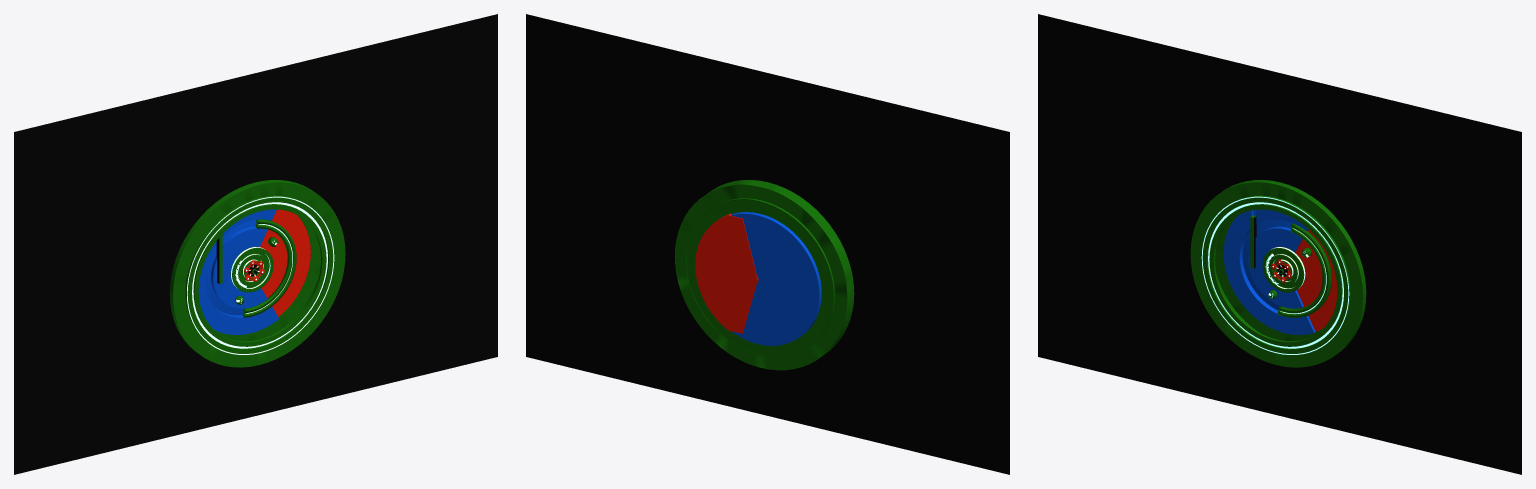
The model's file is Door1BakedReady.glb.
3 renders of one model, left to right at view 1: azimuth 30°, elevation 25°; view 2: azimuth 150°, elevation 25°; view 3: azimuth 330°, elevation 25°, orthographic.
Parts seen in each view (by area): view 1: Plane, Contour, RightSide, LeftSide, RoletteContour, Rolette; view 2: Plane, Contour, RightSide, LeftSide; view 3: Plane, Contour, RightSide, LeftSide, RoletteContour, Rolette.
Part boxes in pixels (box(x1,y1,x2,y2)): Plane: box(14, 14, 497, 474); Contour: box(169, 180, 345, 367); RightSide: box(198, 209, 279, 334); LeftSide: box(260, 209, 310, 316); RoletteContour: box(242, 219, 296, 317); Rolette: box(230, 246, 273, 292); Plane: box(526, 14, 1009, 474); Contour: box(674, 180, 854, 370); RightSide: box(731, 212, 821, 345); LeftSide: box(695, 213, 758, 333); Plane: box(1038, 14, 1521, 474); Contour: box(1190, 180, 1366, 367); RightSide: box(1223, 209, 1315, 334); LeftSide: box(1295, 229, 1337, 331); RoletteContour: box(1277, 223, 1331, 317); Rolette: box(1262, 247, 1305, 292).
Size of the model in its own units: 16.68 by 11.29 by 0.8889.
